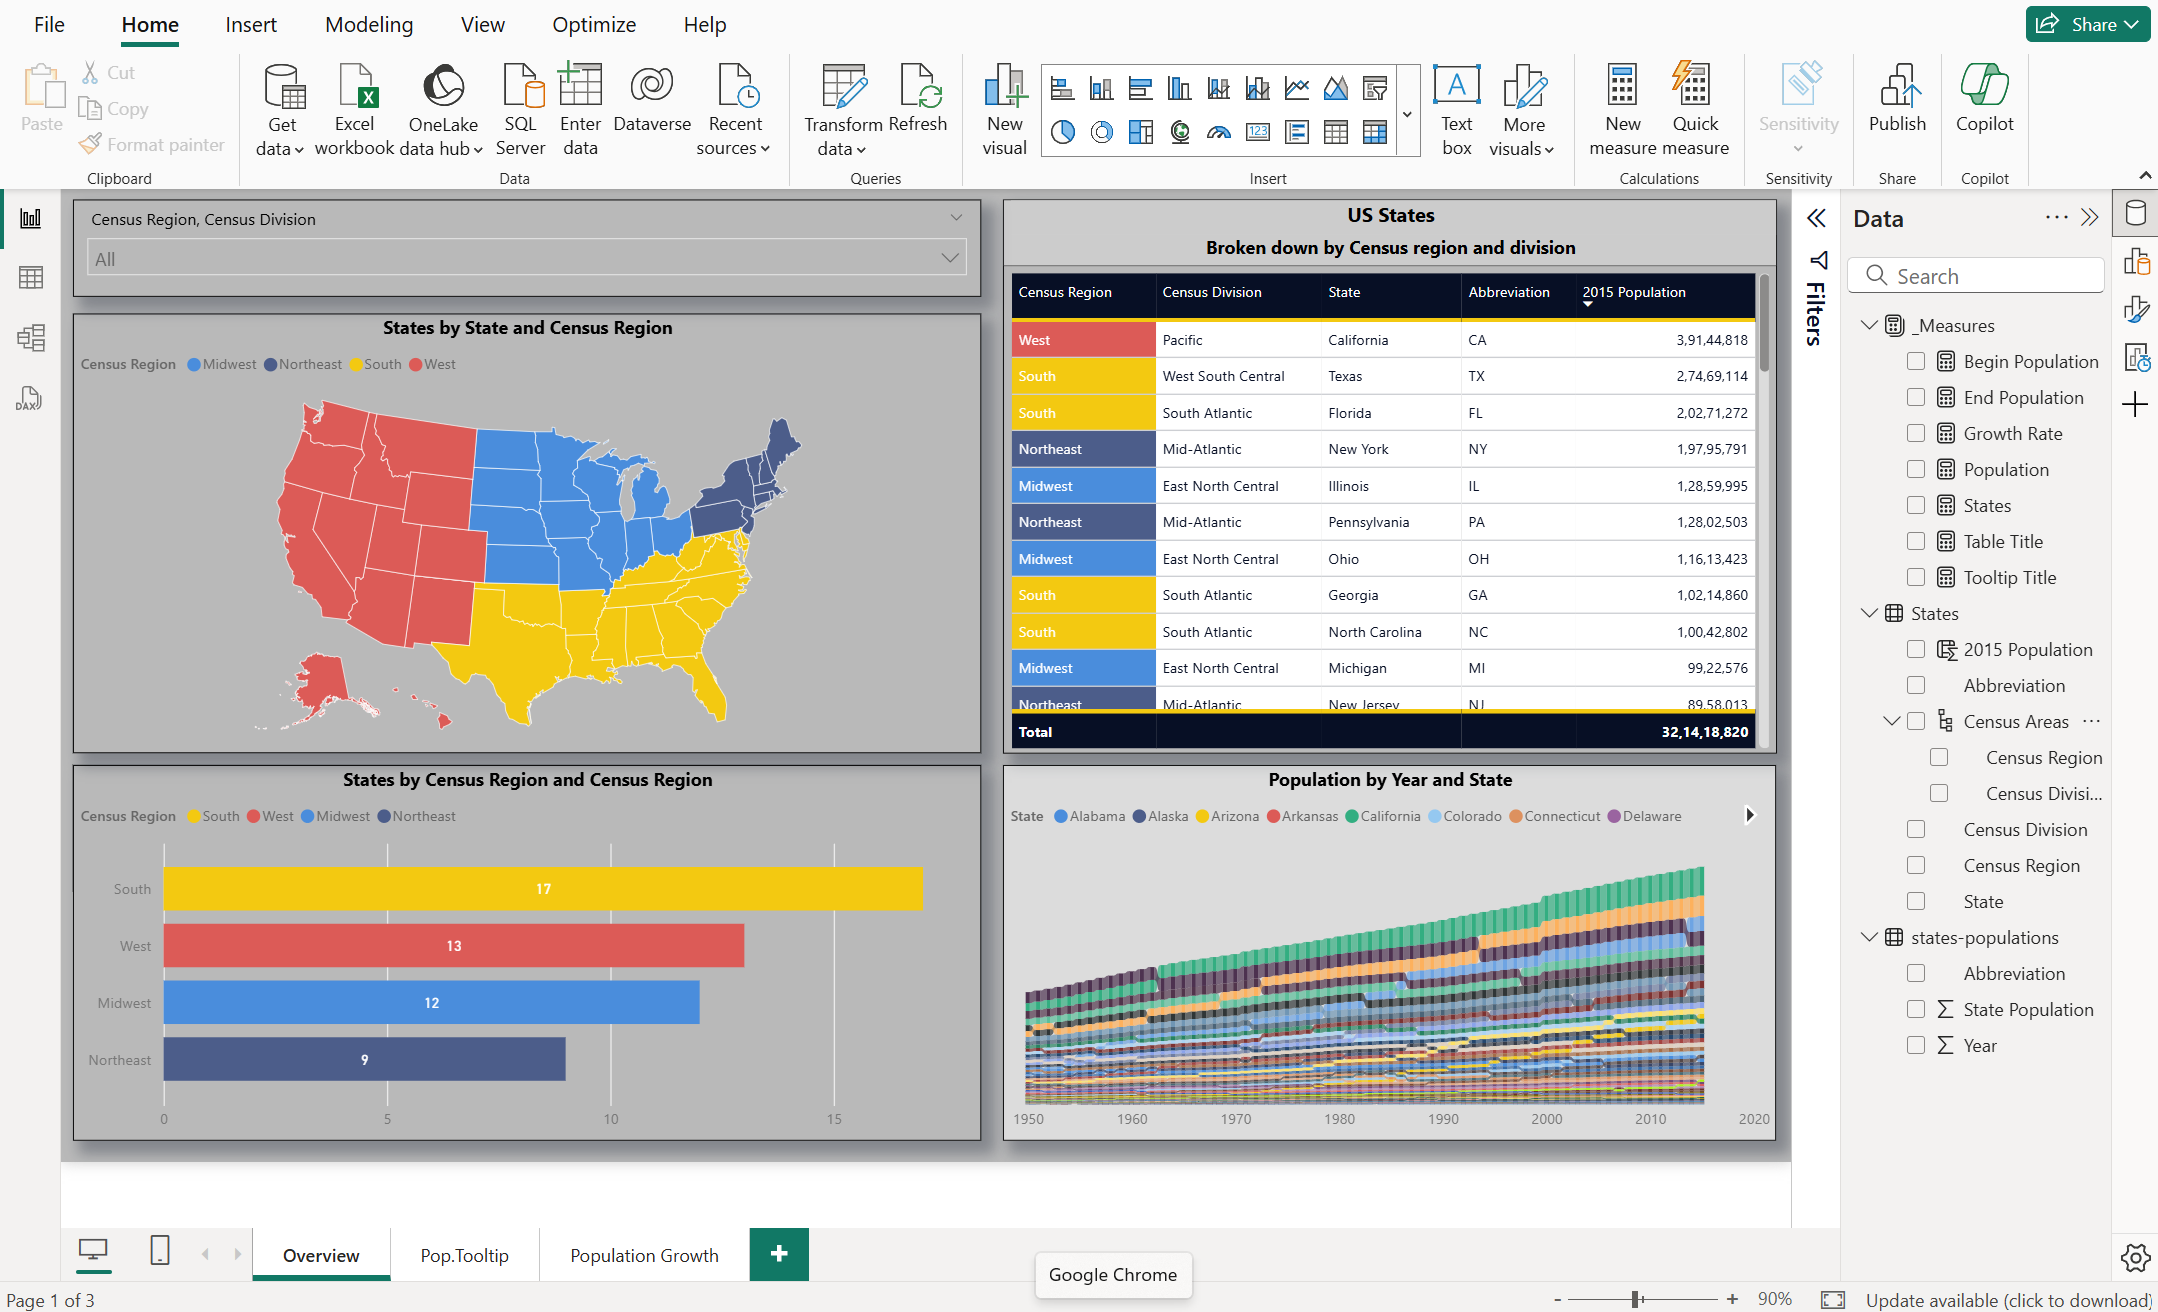

The dashboard page shown, as its layout file describes it:
{"tool":"powerbi","page":{"name":"Overview","canvas":[1280,720],"ordinal":0},"visuals":[{"type":"tableEx","title":"US States","fields":{"Values":["States.Census Region","States.Census Division","States.State","States.Abbreviation","States.2015 Population"]},"box":[696.8,7.9,572.6,410],"z":0},{"type":"shapeMap","fields":{"Category":["States.State"],"Value":["_Measures.States"],"Series":["States.Census Region"]},"box":[9,92.6,672,325.3],"z":1000},{"type":"barChart","fields":{"Category":["States.Census Region"],"Y":["_Measures.States"],"Series":["States.Census Region"]},"box":[9,425.8,672,277.8],"z":2000},{"type":"slicer","title":"Census region & Census Division","fields":{"Values":["States.Census Areas.Census Region","States.Census Areas.Census Division"]},"box":[9,7.9,672,72.3],"z":3000},{"type":"ribbonChart","fields":{"Category":["states-populations.Year"],"Series":["States.State"],"Y":["_Measures.Population"]},"box":[697.3,426,571.9,278.1],"z":4000}]}

Visuals, with their boxes on the page's 1280x720 design canvas (x1, y1, x2, y2). These are canvas units, not pixel positions in the 2158x1312 screenshot, which may show the page scaled, cropped or inside an application window:
"US States" tableEx: <bbox>697, 8, 1269, 418</bbox>
shapeMap - States.State x _Measures.States: <bbox>9, 93, 681, 418</bbox>
barChart - States.Census Region x _Measures.States: <bbox>9, 426, 681, 704</bbox>
"Census region & Census Division" slicer: <bbox>9, 8, 681, 80</bbox>
ribbonChart - states-populations.Year x States.State: <bbox>697, 426, 1269, 704</bbox>
